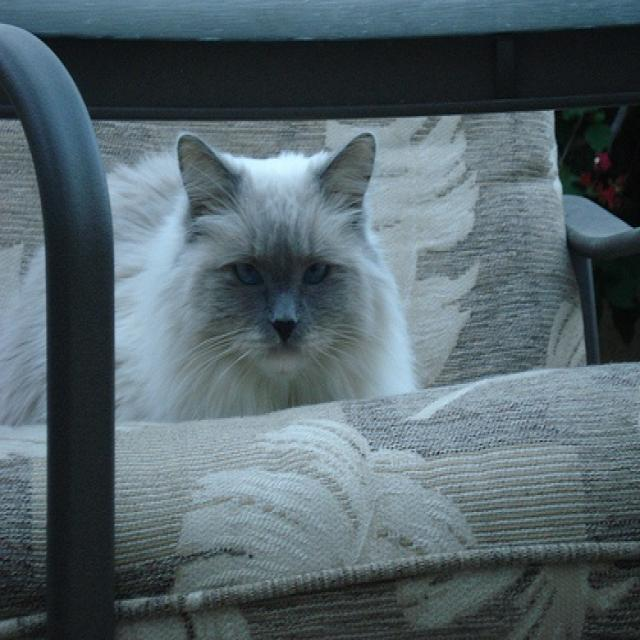cat: (4, 130, 408, 428)
